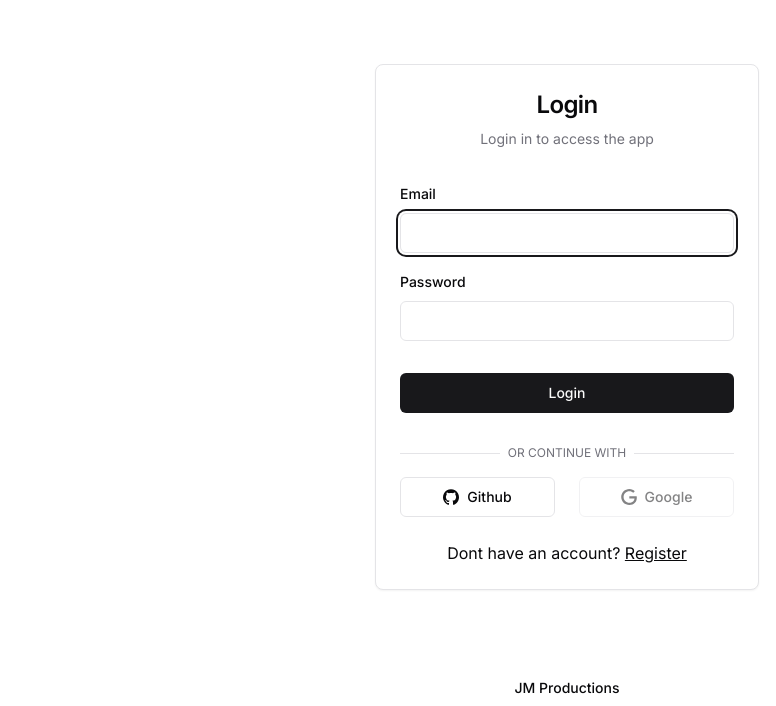
it: Login form tests › Test with empty email
Step 1. Type "password123" into the password field with test id "login-password" → coordinates (567, 321), box [400,301,734,341]
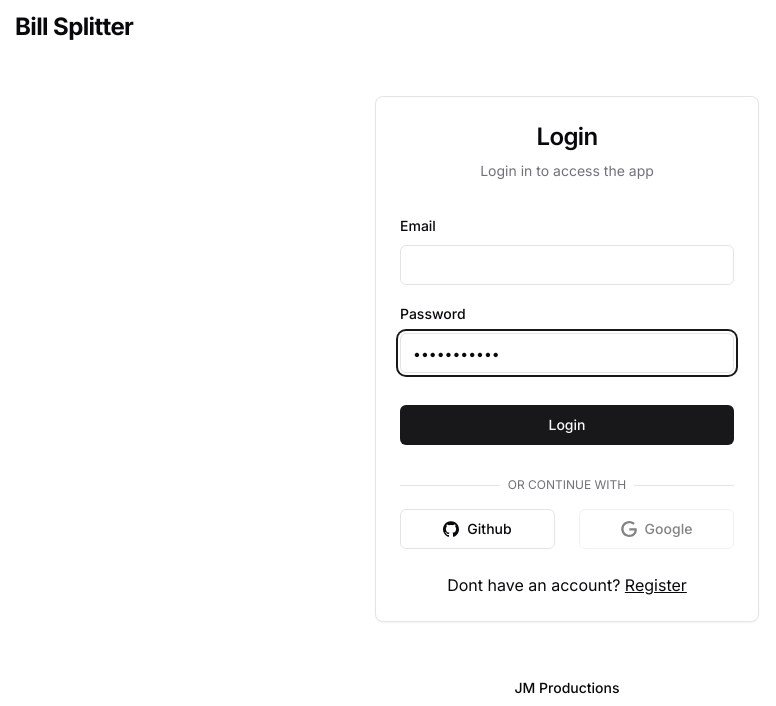
Step 2. Click the button with test id "login-submit" → coordinates (567, 425), box [400,405,734,445]
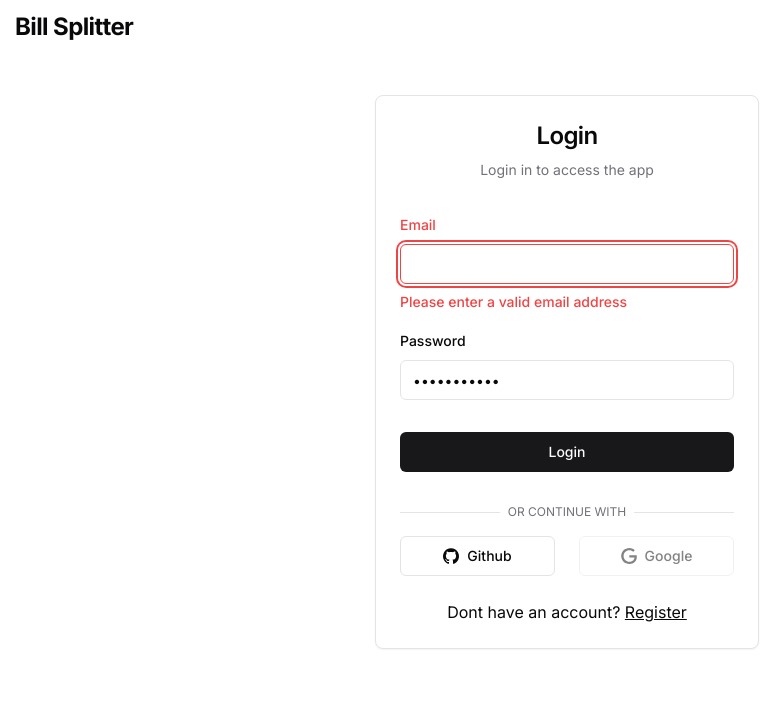
Expected: the form with test id "login-form" shows "Please enter a valid email address", [400,212,734,488]
